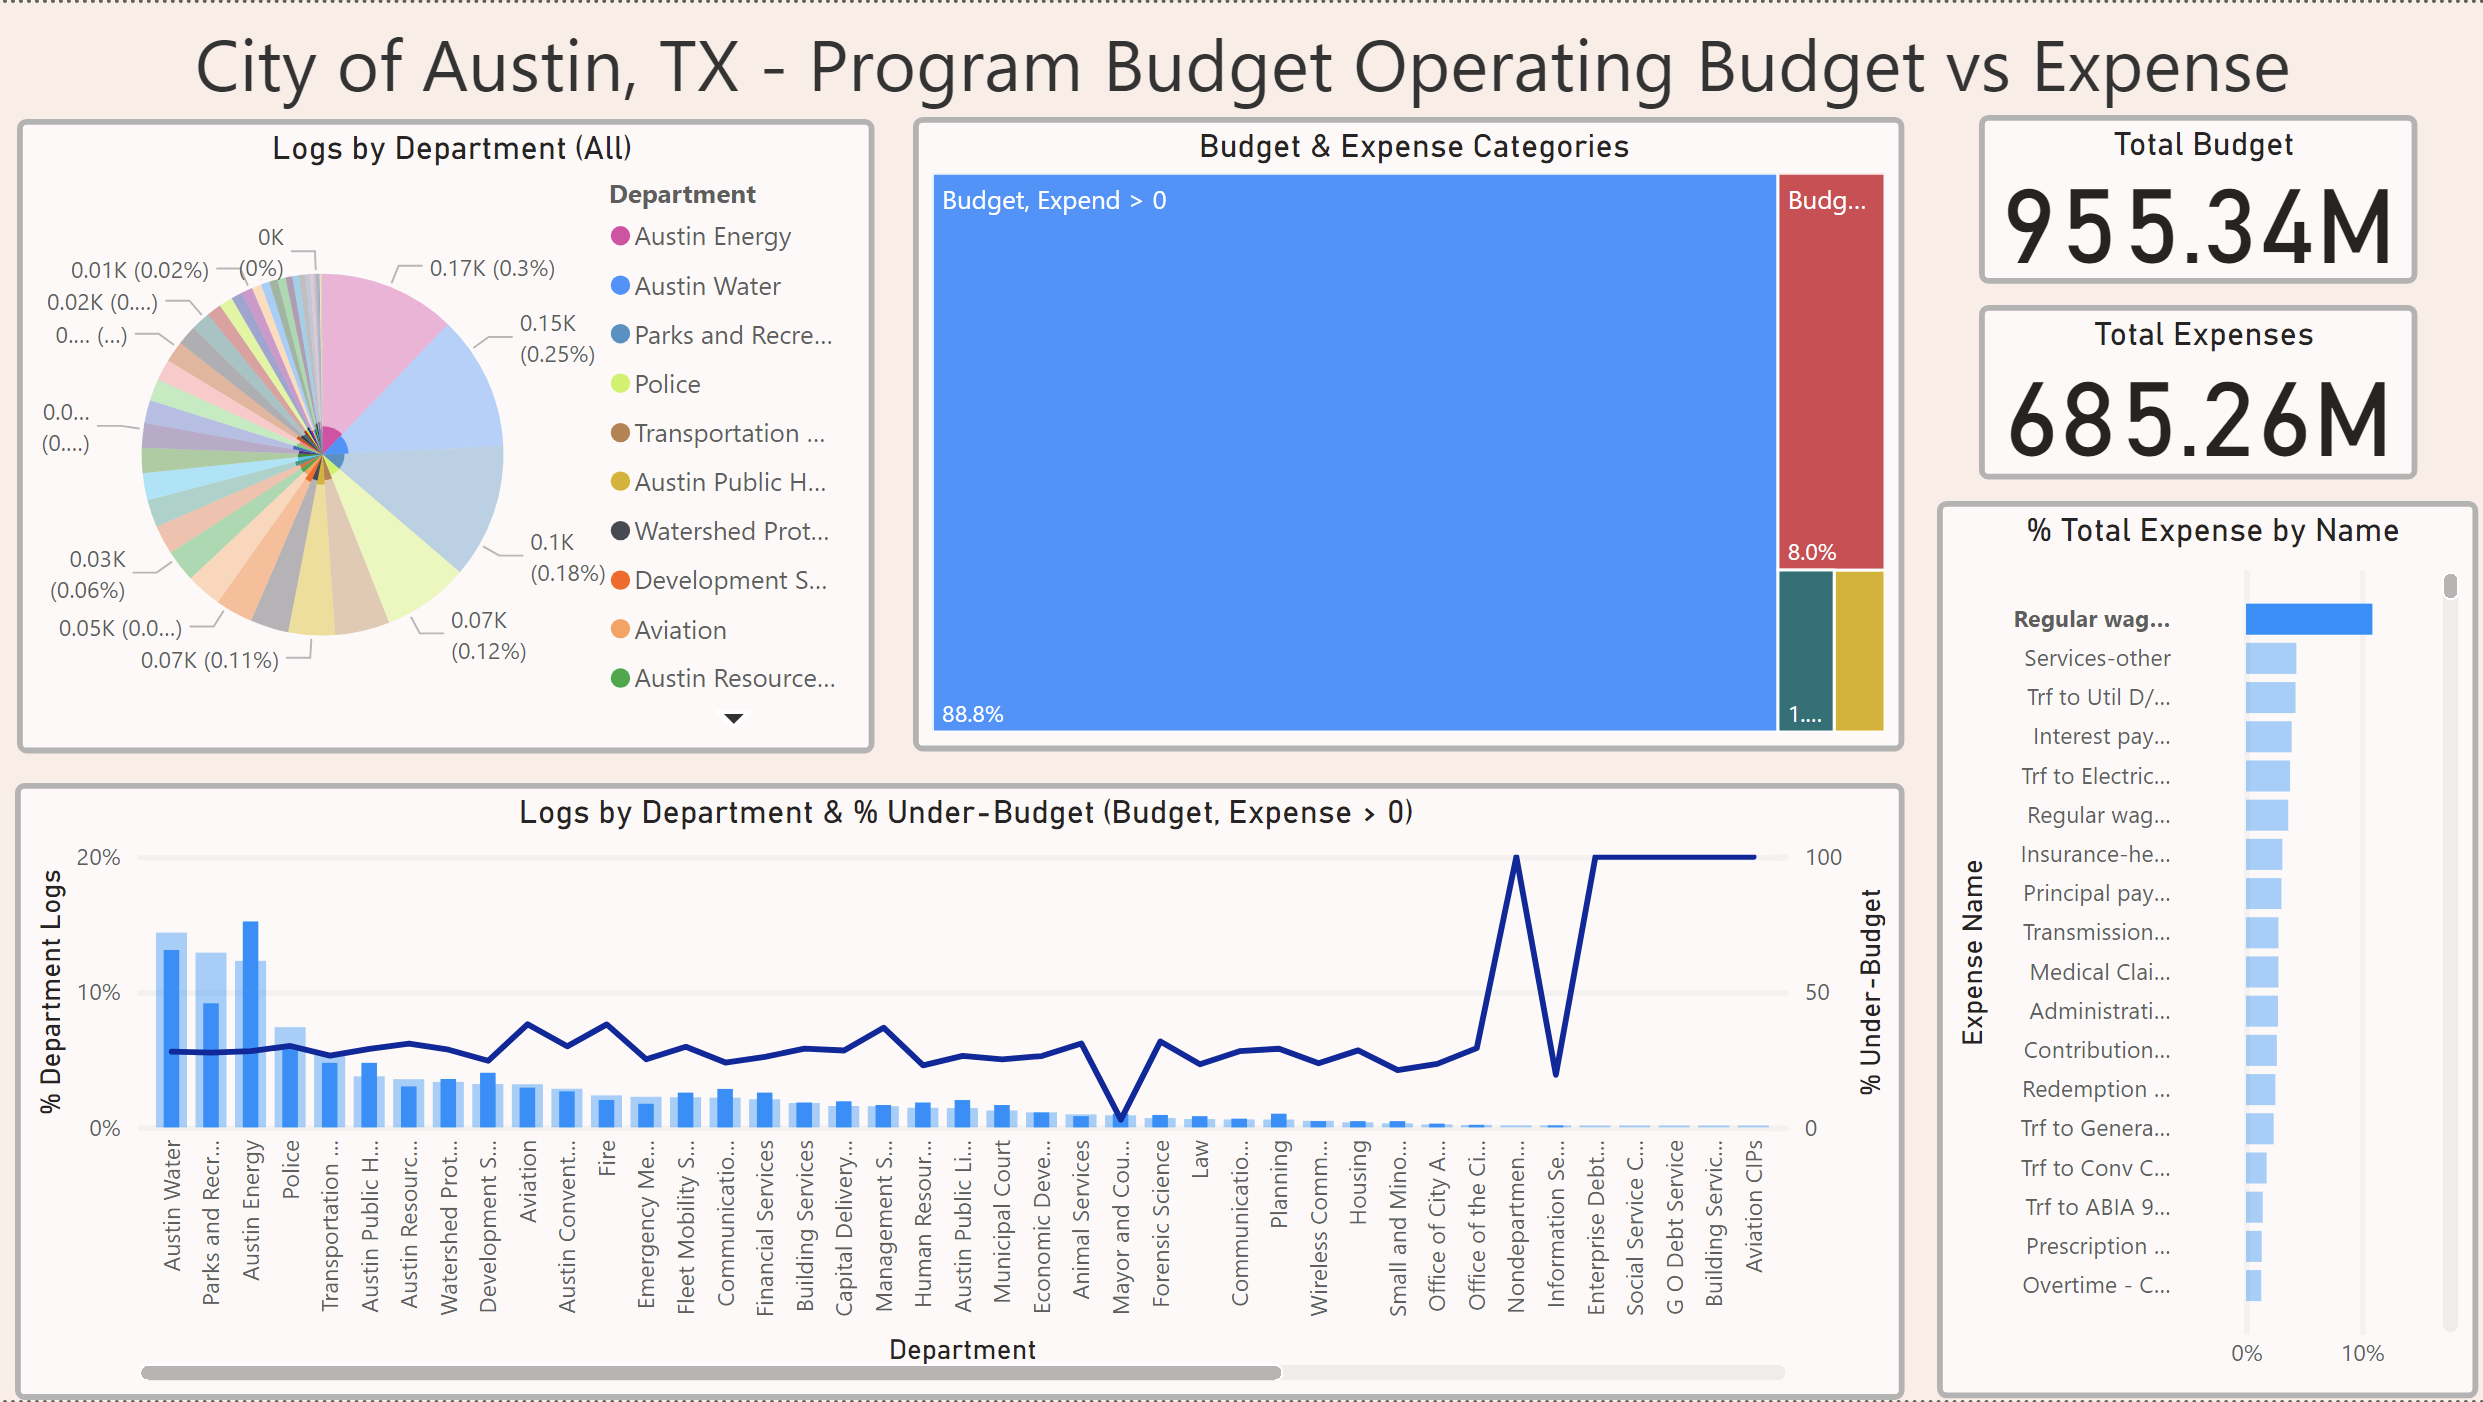

The dashboard page shown, as its layout file describes it:
{"tool":"powerbi","page":{"name":"Mini-Dashboard","canvas":[1280,720],"ordinal":0},"visuals":[{"type":"pieChart","title":"Logs by Department (All)","fields":{"Category":["AustinTXData budget.DEPARTMENT_NAME"],"Y":["CountNonNull(AustinTXData budget.DEPARTMENT_NAME)"]},"box":[9,60,442,327],"z":0},{"type":"treemap","title":"Budget & Expense Categories","fields":{"Group":["AustinTXData budget.BudgetExpendCateg"],"Values":["CountNonNull(AustinTXData budget.BudgetExpendCateg)"]},"box":[471,59,511,327],"z":1000},{"type":"barChart","title":"% Total Expense by Name","fields":{"Category":["AustinTXData budget.EXPENSE_NAME"],"Y":["Divide(Sum(AustinTXData budget.EXPENDITURES), ScopedEval(Sum(AustinTXData budget.EXPENDITURES), []))"]},"box":[998.8,256.2,278.8,462.5],"z":2000},{"type":"lineStackedColumnComboChart","title":"Logs by Department & % Under-Budget  (Budget, Expense > 0)","fields":{"Category":["AustinTXData budget.DEPARTMENT_NAME"],"Y2":["AustinTXData budget.PercUnderBudget"],"Y":["Divide(CountNonNull(AustinTXData budget.DEPARTMENT_NAME), ScopedEval(CountNonNull(AustinTXData budget.DEPARTMENT_NAME), "]},"box":[8,402,974,318],"z":3000},{"type":"card","title":"Total Budget","fields":{"Values":["AustinTXData budget.TotalBudget"]},"box":[1021,58,226,87],"z":4000},{"type":"card","title":"Total Expenses","fields":{"Values":["Sum(AustinTXData budget.EXPENDITURES)"]},"box":[1021,156,226,90],"z":5000},{"type":"textbox","box":[82.5,0,1117.5,63],"z":5001}]}

Visuals, with their boxes in screenshot pixels (x1, y1, x2, y2), scaled from the page's 1280x720 canvas onto the 2483x1402 screenshot:
"Logs by Department (All)" pieChart: (left=17, top=117, right=875, bottom=754)
"Budget & Expense Categories" treemap: (left=914, top=115, right=1905, bottom=752)
"% Total Expense by Name" barChart: (left=1938, top=499, right=2478, bottom=1399)
"Logs by Department & % Under-Budget  (Budget, Expense > 0)" lineStackedColumnComboChart: (left=16, top=783, right=1905, bottom=1401)
"Total Budget" card: (left=1981, top=113, right=2419, bottom=282)
"Total Expenses" card: (left=1981, top=304, right=2419, bottom=479)
textbox: (left=160, top=0, right=2328, bottom=123)
